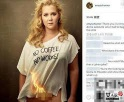female: (36, 1, 67, 38)
